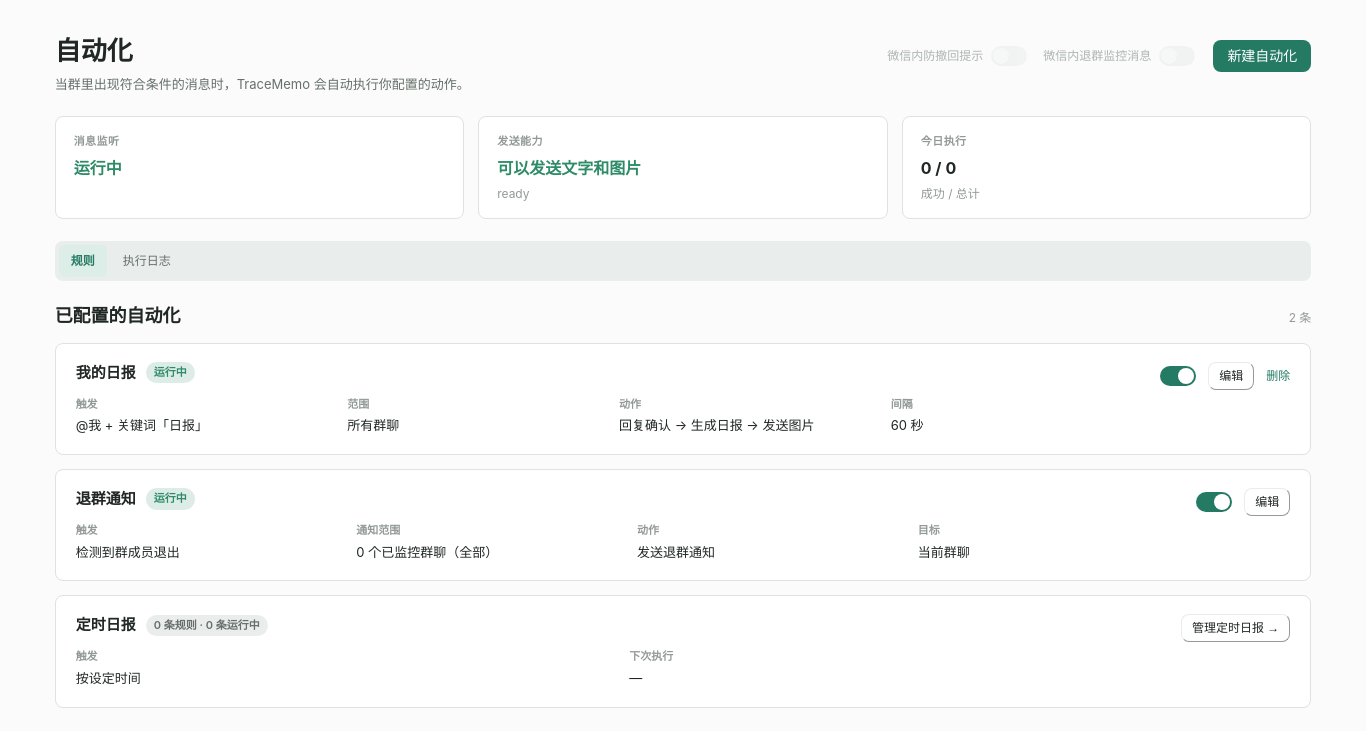
Test: 规则类型切换 · 编辑目标归属 › 切到日报后，「正在编辑」显示那条日报的名字（不再隐式指向未知目标）
Click the 2nd button "编辑" at (1267, 502), box [1244,488,1290,516]
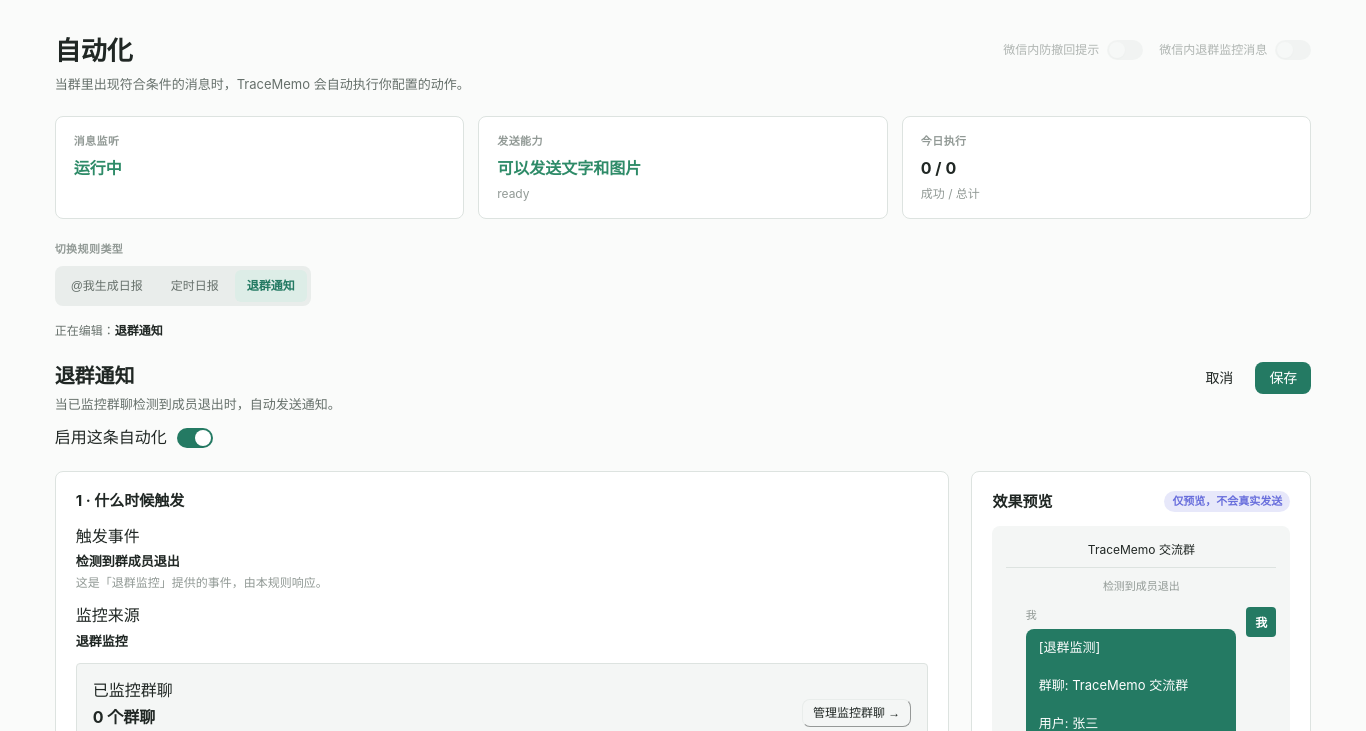
Click the radio button labelled "@我生成日报" at (107, 286), box [59,270,155,302]
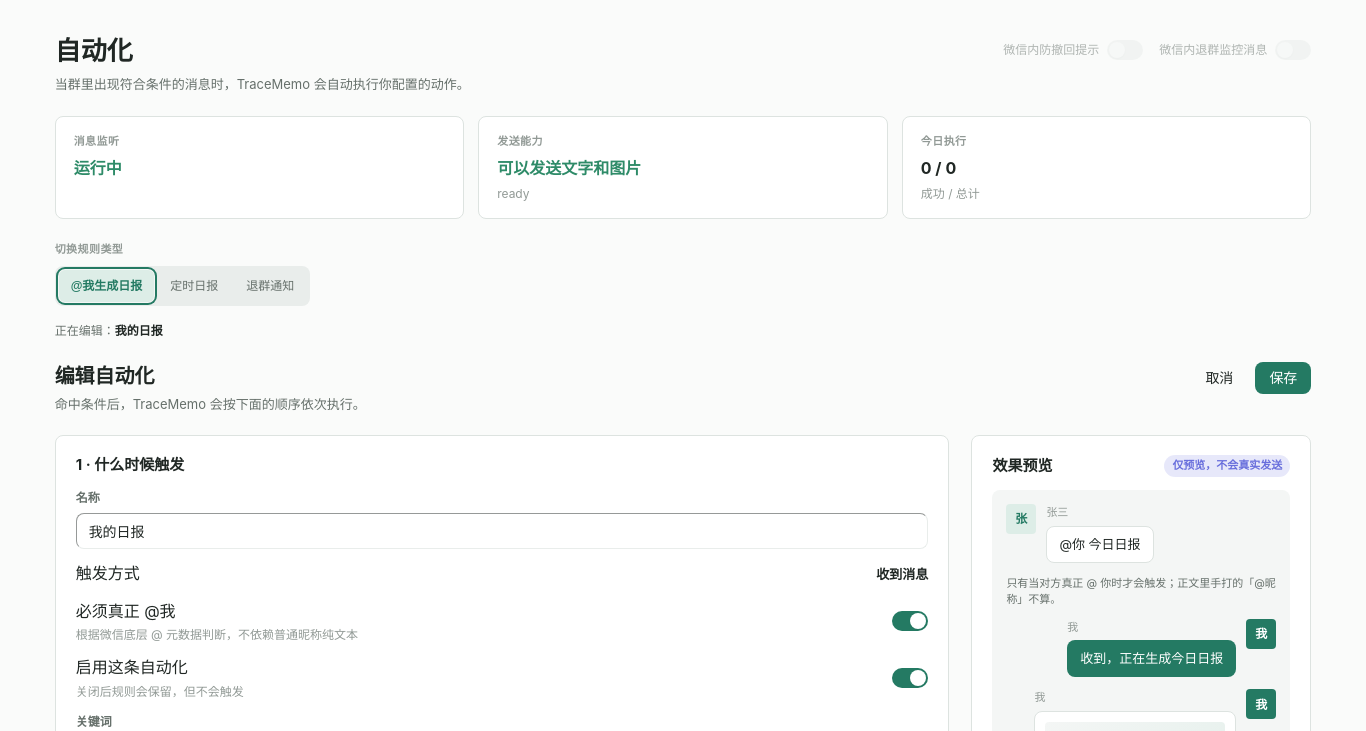
Check: the element with test id "automation-editing-target" shows "我的日报", box [115,323,163,338]
Check: the element with test id "automation-editing-target" no longer shows "退群通知"
